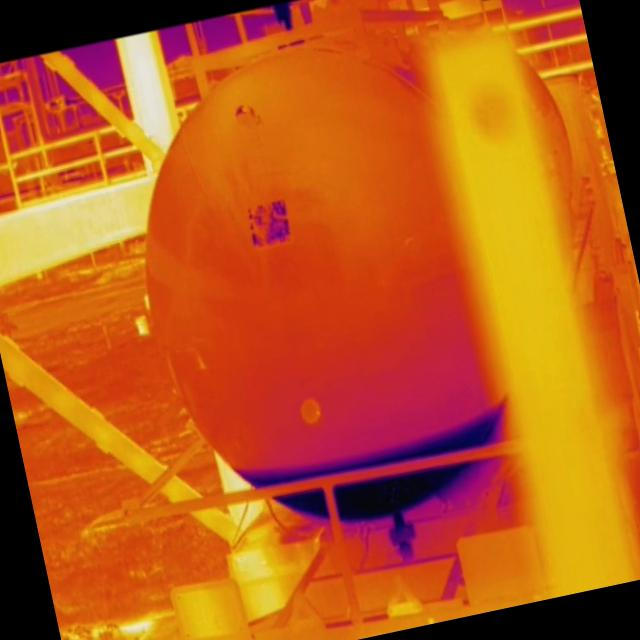tank: (102, 22, 515, 556)
